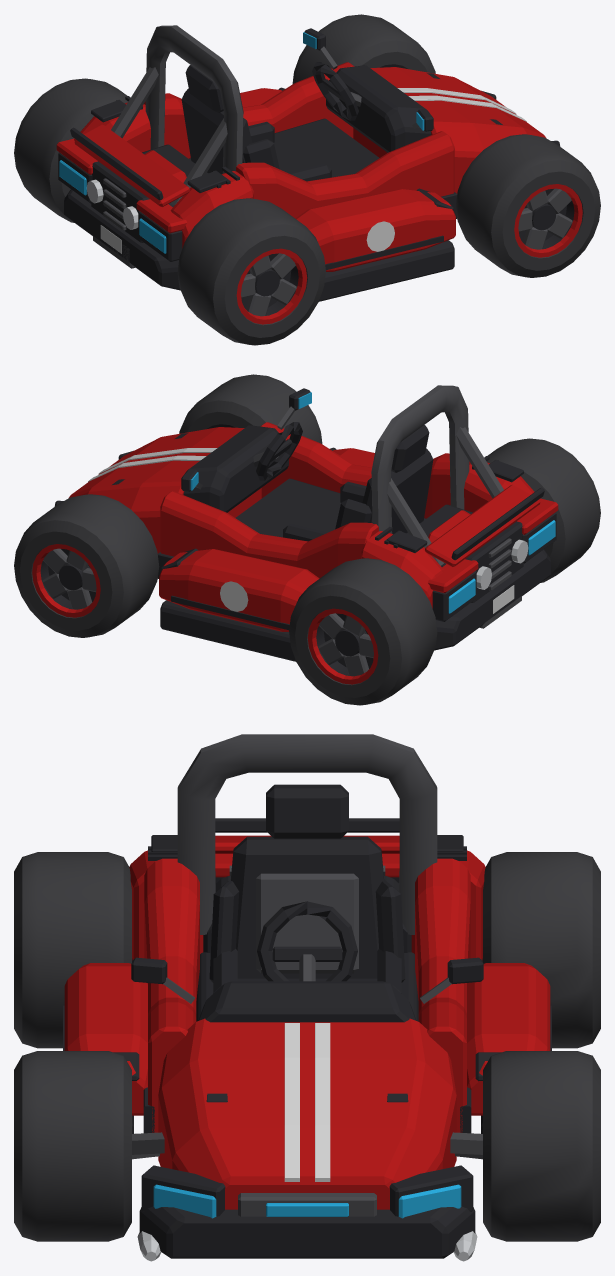
Rendered from hero-kart-scripted.glb.
3 renders of one model, top to bottom at view 1: azimuth 30°, elevation 25°; view 2: azimuth 150°, elevation 25°; view 3: azimuth 270°, elevation 25°, orthographic. The views are drawn at different scales.
Parts seen in each view (by area): view 1: kart_body, wheel_rear_r, wheel_front_r, wheel_rear_l, wheel_front_l; view 2: kart_body, wheel_rear_l, wheel_front_l, wheel_rear_r, wheel_front_r; view 3: kart_body, wheel_front_l, wheel_front_r, wheel_rear_l, wheel_rear_r.
Boxes of the visible parts, <box> form: kart_body: <box>56,25,560,301</box>; wheel_rear_r: <box>177,198,325,345</box>; wheel_front_r: <box>455,134,600,277</box>; wheel_rear_l: <box>14,78,128,222</box>; wheel_front_l: <box>292,14,435,83</box>; kart_body: <box>54,385,558,661</box>; wheel_rear_l: <box>289,558,437,705</box>; wheel_front_l: <box>14,494,159,637</box>; wheel_rear_r: <box>486,438,600,582</box>; wheel_front_r: <box>179,374,322,443</box>; kart_body: <box>63,734,551,1261</box>; wheel_front_l: <box>483,1051,600,1241</box>; wheel_front_r: <box>14,1051,131,1241</box>; wheel_rear_l: <box>483,852,600,1048</box>; wheel_rear_r: <box>14,852,131,1048</box>.
Bounding box in the file's own units: 1 × 0.5123 × 0.846.
